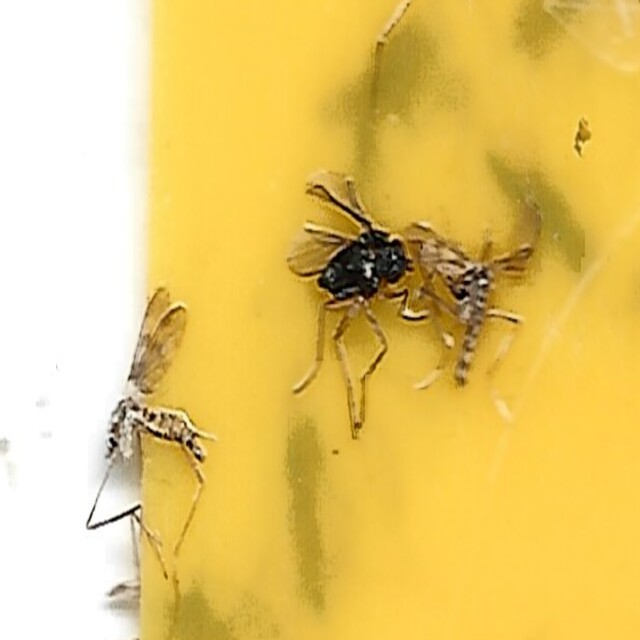Brachycera: (286, 167, 420, 433)
Nematocera: (400, 214, 538, 393), (102, 287, 209, 473)
